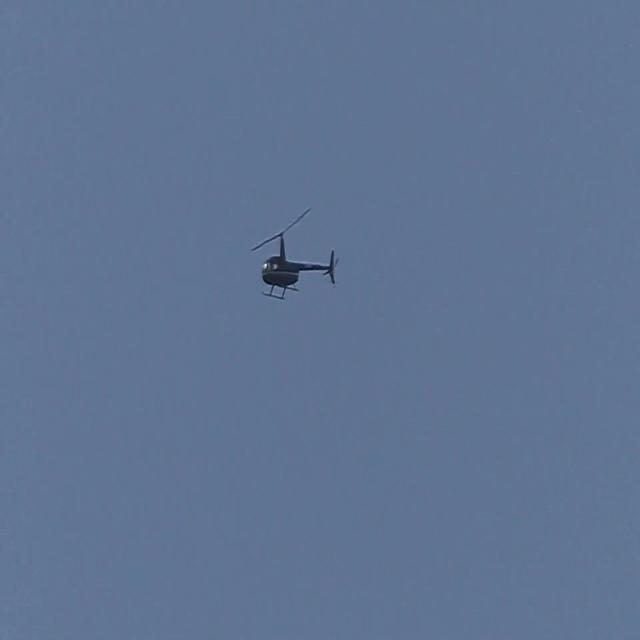CIV_HELO: (261, 229, 340, 301)
